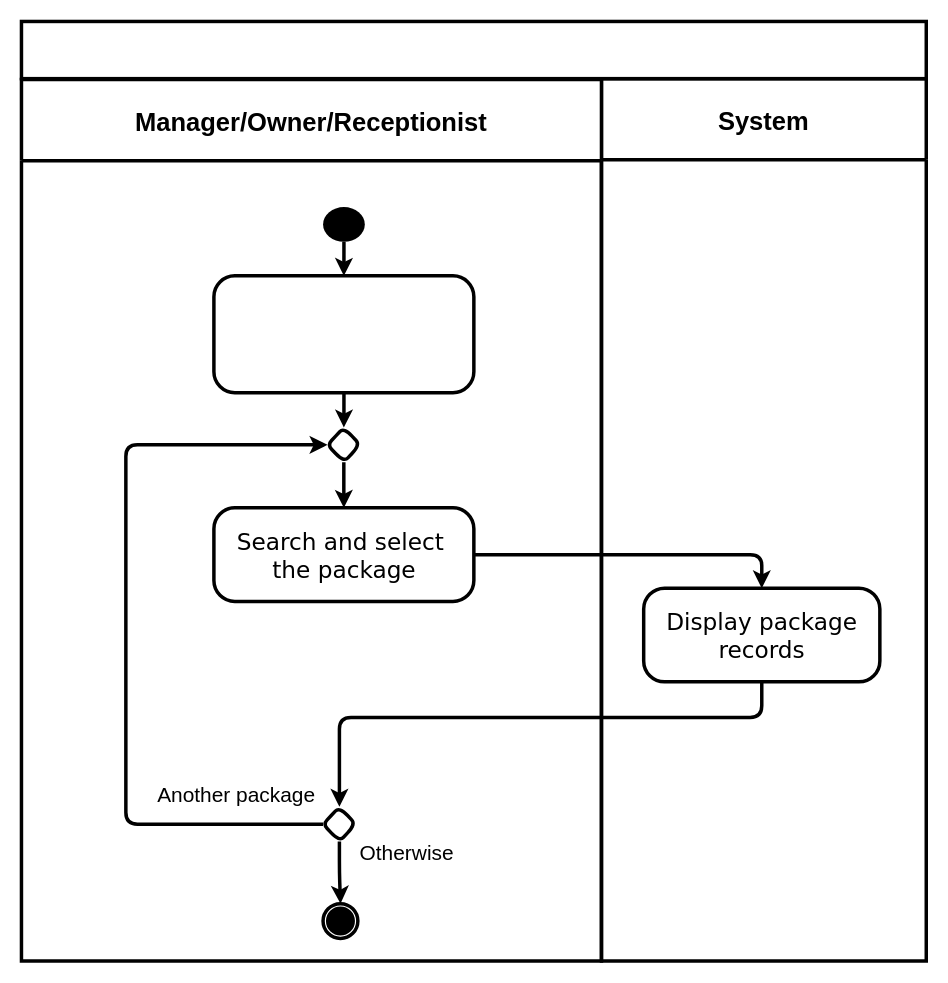
This 948x983 diagram has some shape labels left out. The shapes that lost their labels are listed below. From the top down, each one's centre as x and y in pixels, then its label:
point (473, 49): View Package
point (343, 334): Select "View Packages" option
